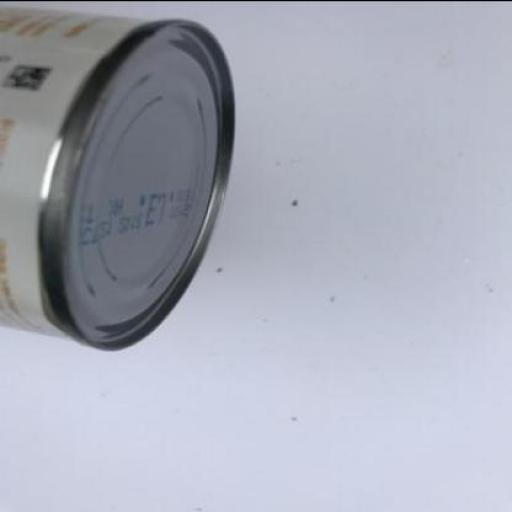metal: (1, 1, 238, 351)
